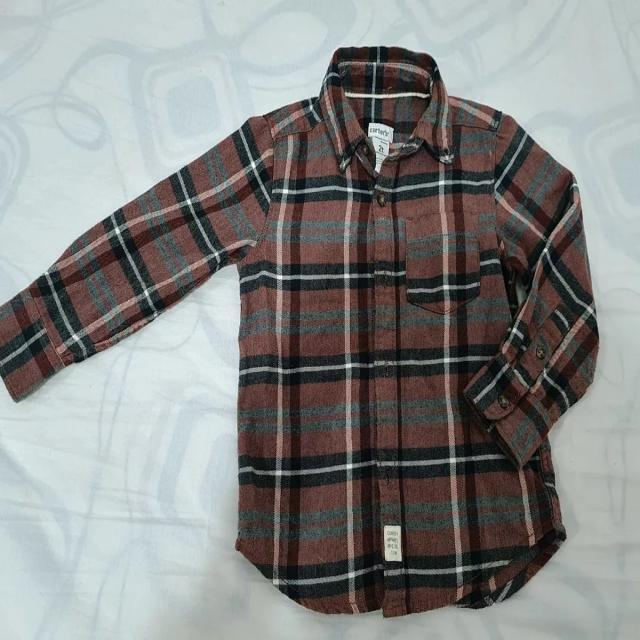long sleeve shirt: (0, 44, 604, 621)
